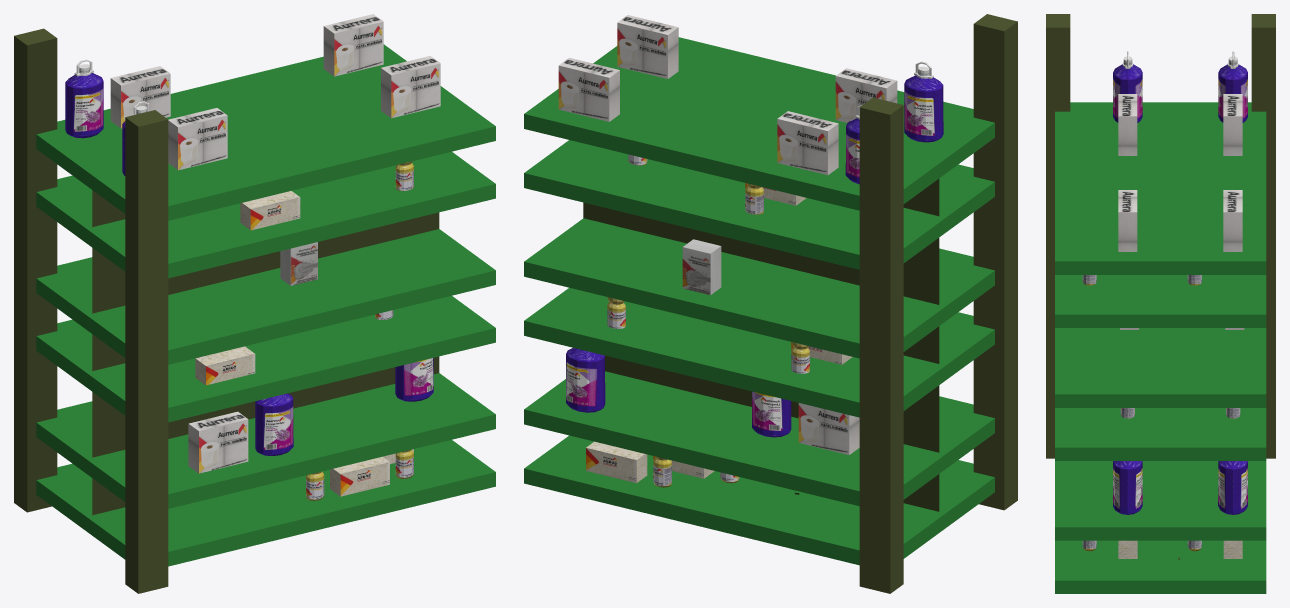
Rendered from almacen_medio_com.fbx.
3 views of the same model, side by side, from view 1: azimuth 30°, elevation 25°; view 2: azimuth 150°, elevation 25°; view 3: azimuth 270°, elevation 25° (orthographic). The views are drawn at different scales.
Parts seen in each view (by area): view 1: almacen medio_com; view 2: almacen medio_com; view 3: almacen medio_com.
Part boxes in pixels (x1,y1,x2,y2): almacen medio_com: [14, 14, 495, 593]; almacen medio_com: [524, 14, 1017, 593]; almacen medio_com: [1046, 14, 1275, 593].
Bounding box in the file's own units: 217 × 267 × 129.
